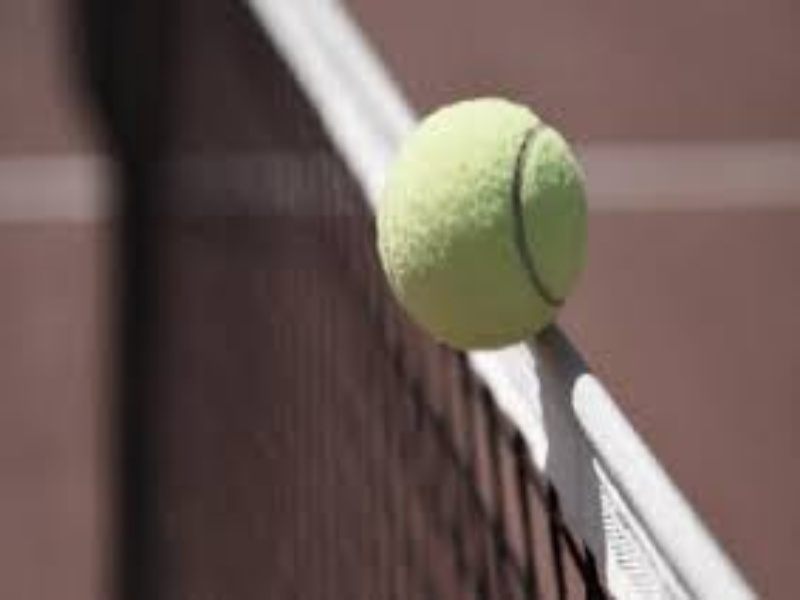tennis ball: (381, 83, 600, 370)
